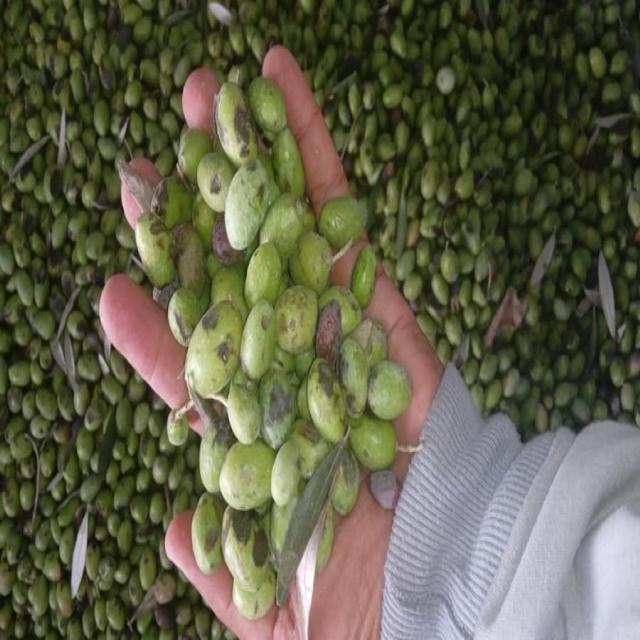Anthracnose: (185, 302, 242, 398), (224, 160, 273, 250), (222, 506, 270, 592), (214, 82, 256, 166), (308, 359, 346, 442), (275, 285, 317, 354), (259, 369, 295, 448), (240, 300, 276, 379), (334, 336, 368, 415), (134, 212, 170, 286), (191, 494, 221, 574), (197, 152, 233, 211)
